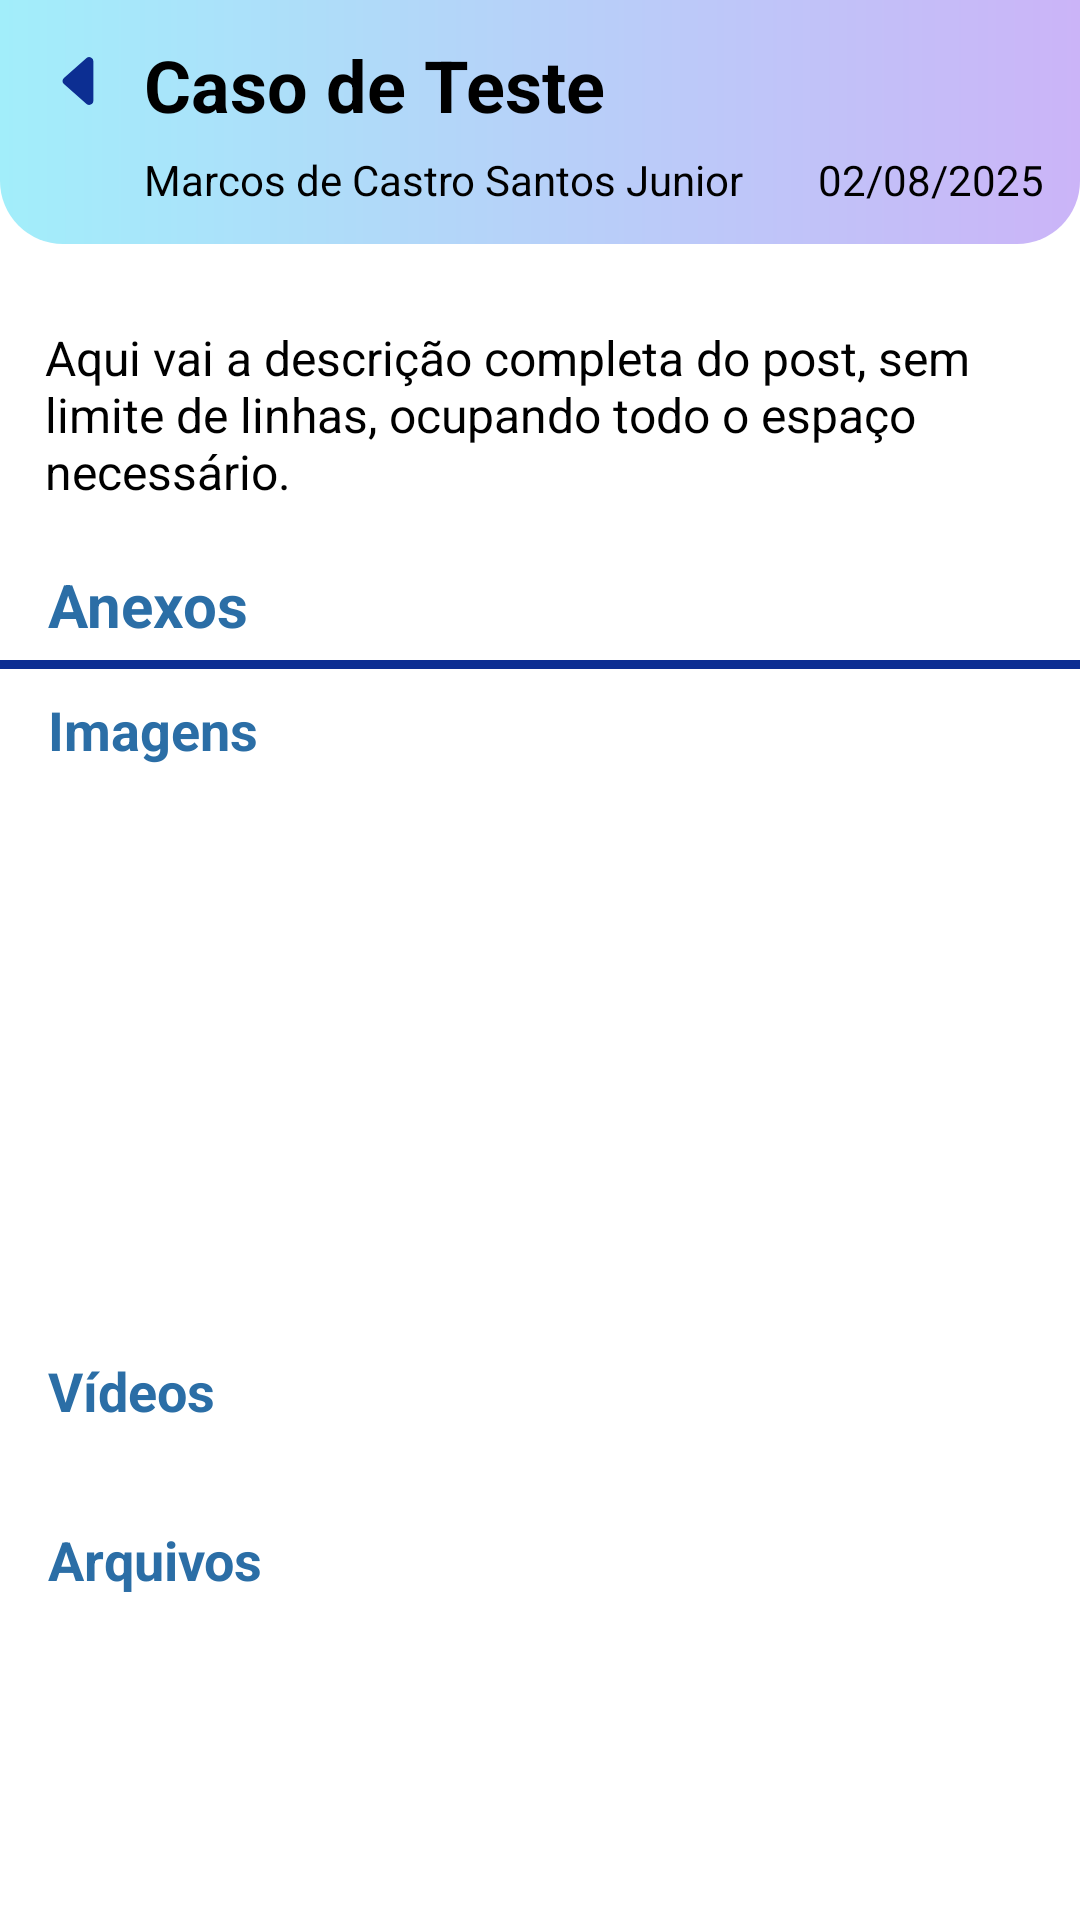

Icon click points for this 1080 x 1920 phone screenshot, format [x,y]:
caret left: [78,81]
